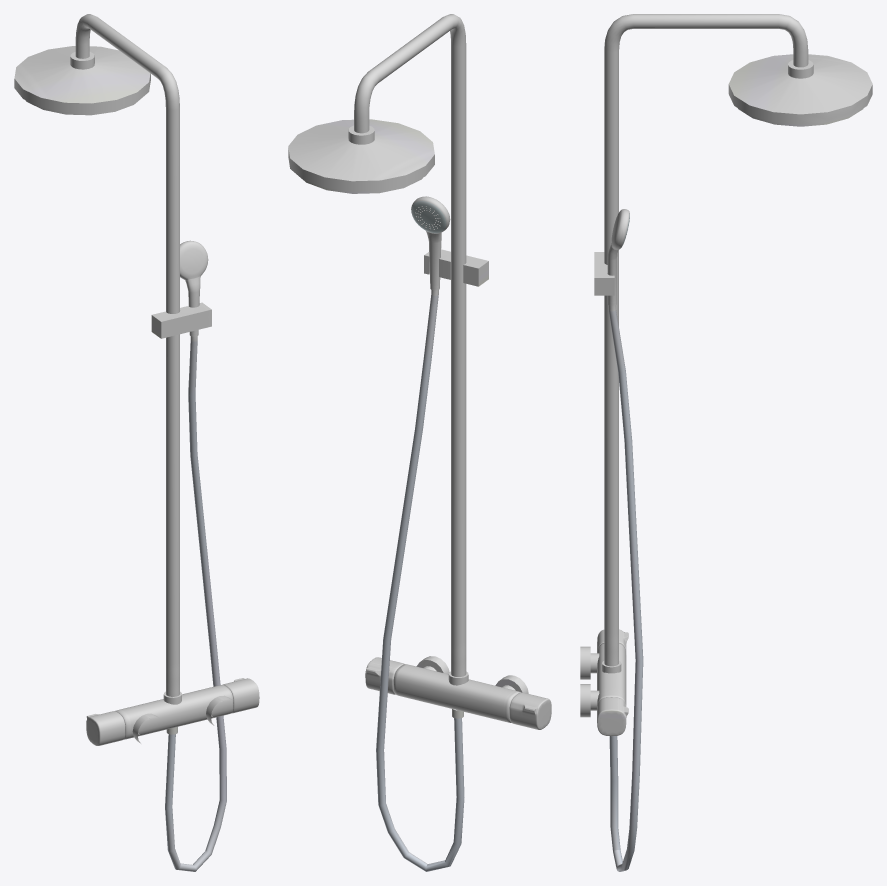
The model's file is ShowerSystem01.glb.
The picture shows the model from 3 angles, left to right: view 1: azimuth 30°, elevation 25°; view 2: azimuth 150°, elevation 25°; view 3: azimuth 270°, elevation 25°; orthographic projection. The views are drawn at different scales.
Visible parts, largest first — view 1: ShowerSystem01_model, ShowerSystem01Lever01, ShowerSystem01Lever02; view 2: ShowerSystem01_model, ShowerSystem01Lever01, ShowerSystem01Lever02; view 3: ShowerSystem01_model, ShowerSystem01Lever02.
Part boxes in pixels (x1,y1,x2,y2): ShowerSystem01_model: [14, 14, 233, 871]; ShowerSystem01Lever01: [86, 711, 125, 745]; ShowerSystem01Lever02: [222, 678, 259, 713]; ShowerSystem01_model: [288, 14, 528, 871]; ShowerSystem01Lever01: [509, 692, 551, 729]; ShowerSystem01Lever02: [365, 657, 404, 694]; ShowerSystem01_model: [580, 14, 872, 871]; ShowerSystem01Lever02: [597, 697, 628, 736].
Size of the model in its own units: 0.7058 by 3.4 by 1.07.
Materials: 1 (1 with a texture image).
